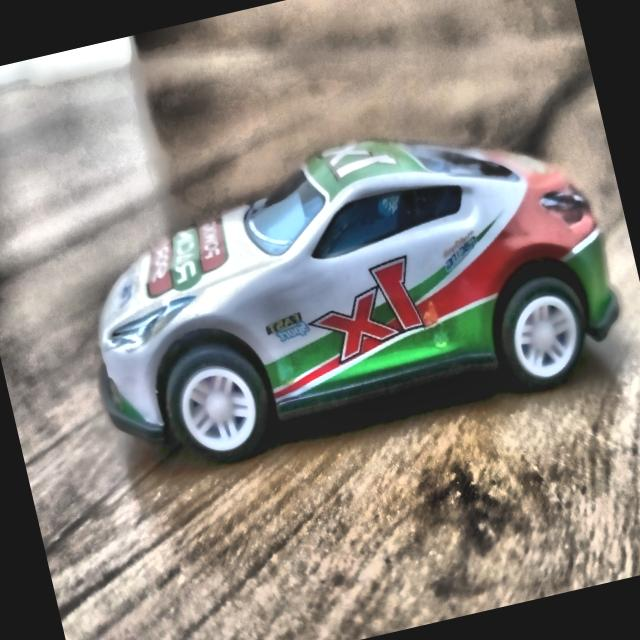Car: (80, 85, 640, 494)
